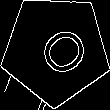O_SW: (23, 17, 88, 82)
